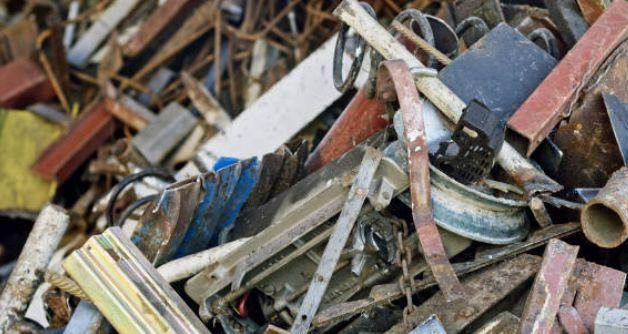metal: (375, 58, 468, 304), (501, 0, 628, 160), (131, 144, 297, 261), (293, 146, 383, 334), (64, 226, 215, 334), (0, 203, 71, 334), (29, 98, 119, 183), (518, 238, 582, 334), (131, 102, 198, 167), (581, 165, 628, 248)
